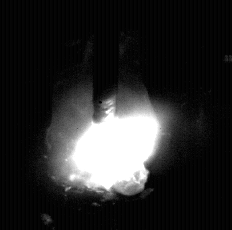arame: (94, 0, 118, 123)
poca: (46, 0, 162, 230)
